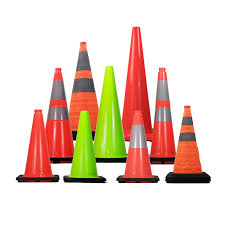cones: (164, 104, 213, 188), (122, 26, 153, 143), (17, 105, 59, 185), (116, 109, 160, 185), (62, 110, 105, 186), (94, 65, 127, 164), (42, 67, 75, 164), (68, 40, 97, 137), (154, 67, 177, 163)
